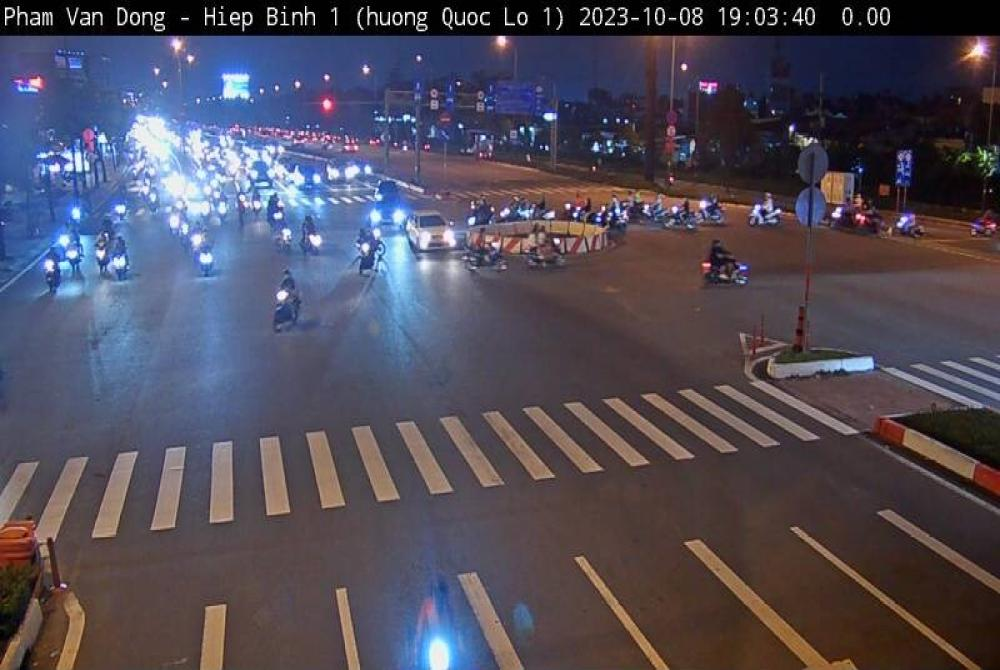car: (410, 213, 454, 251)
motorbike: (702, 258, 751, 287)
